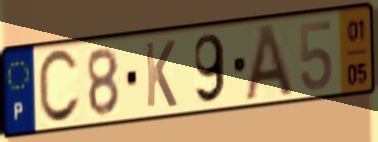5: (298, 17, 335, 93)
8: (85, 45, 122, 119)
9: (193, 31, 227, 105)
A: (242, 20, 297, 104)
C: (36, 46, 83, 128)
K: (143, 38, 179, 110)
